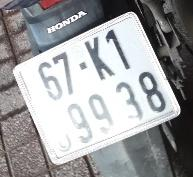0: (42, 109, 77, 158)
1: (100, 24, 137, 75)
3: (110, 76, 148, 126)
6: (33, 56, 68, 104)
7: (51, 48, 83, 98)
8: (133, 64, 171, 116)
9: (84, 87, 122, 138), (61, 98, 98, 146)
K: (82, 31, 118, 84)
